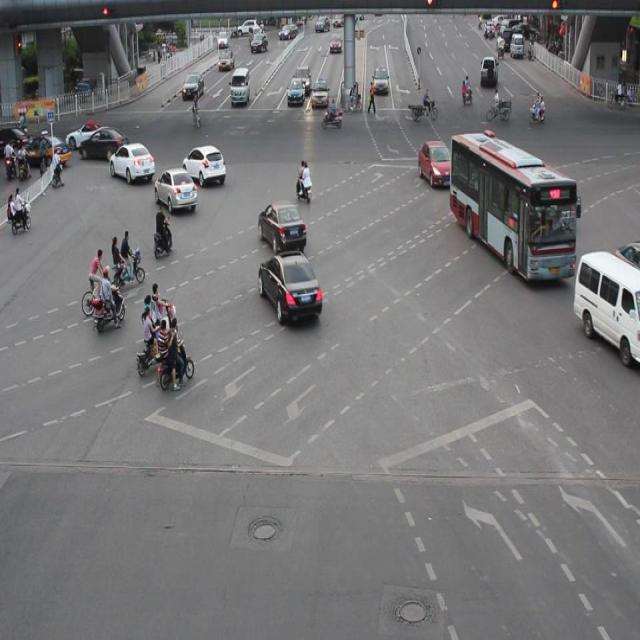car: (258, 248, 323, 323), (256, 200, 306, 253), (154, 166, 197, 212), (416, 138, 455, 188), (79, 124, 130, 162), (181, 143, 226, 186), (109, 142, 155, 182), (66, 120, 106, 150)
truck: (573, 249, 640, 367)
van: (450, 134, 575, 282)
